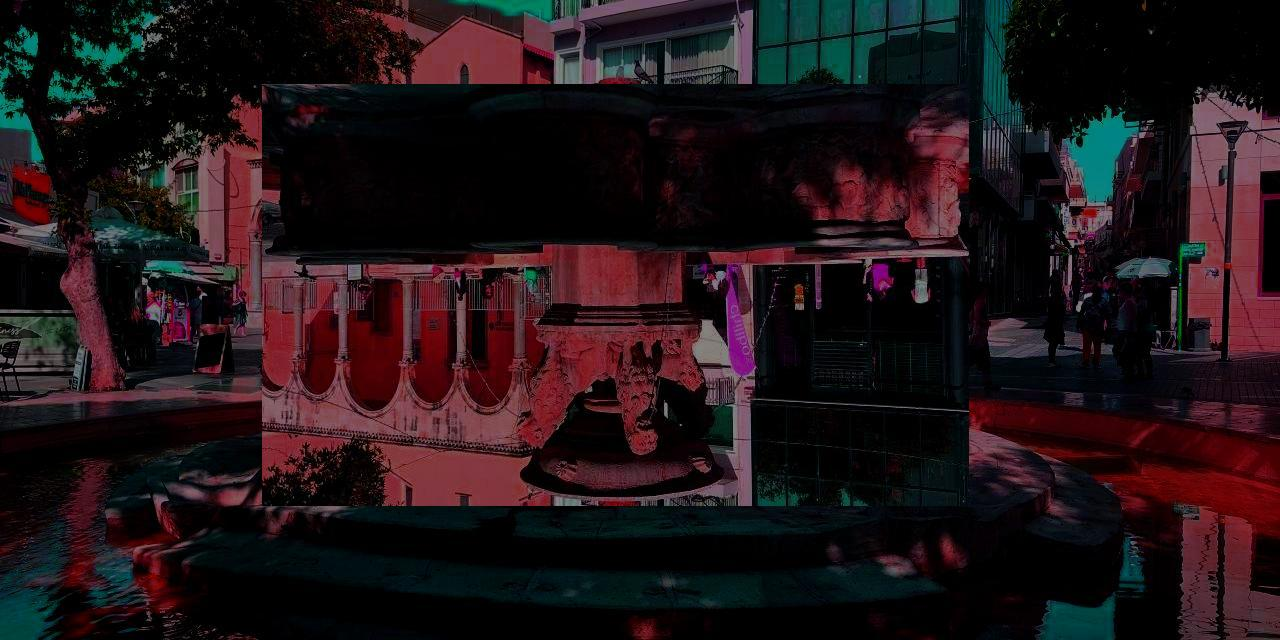Liontaria: (263, 85, 970, 507)
